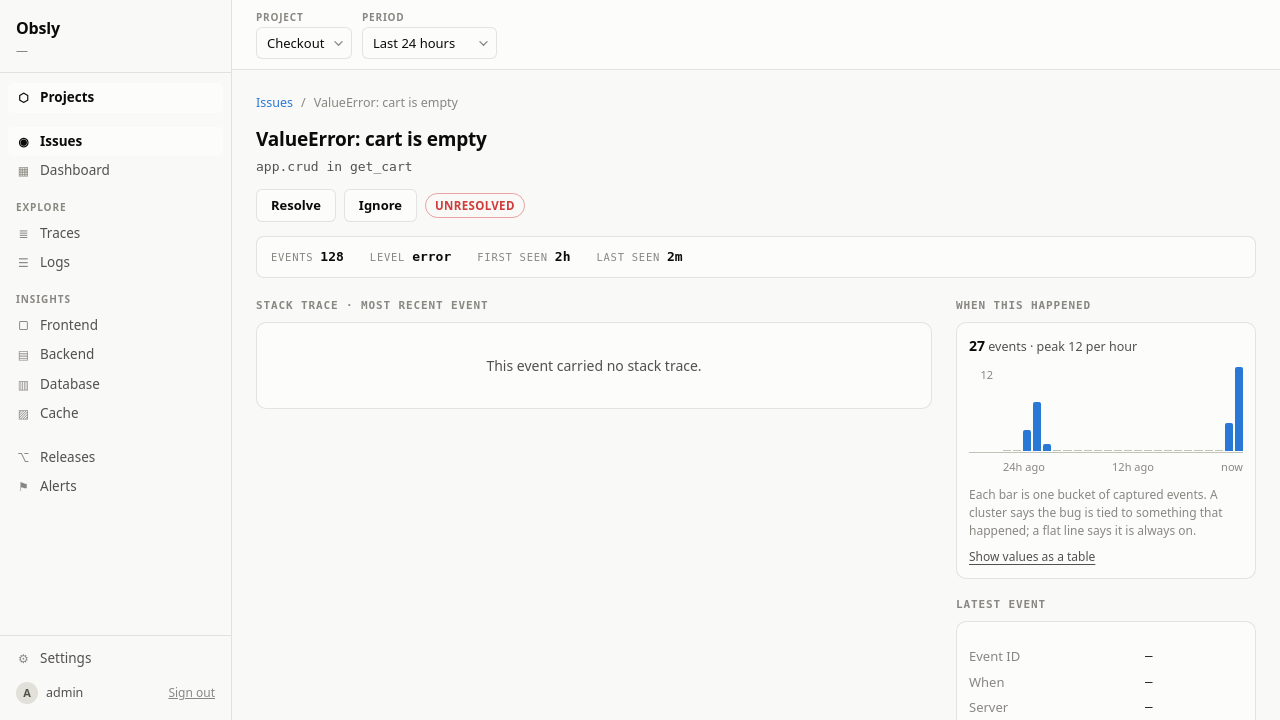
Test: Review findings › switching project from a detail page does not carry the record id across
The width and height of the screenshot is (1280, 720).
Select "Billing" in the dropdown labelled "Project". click: (304, 43)
box: [256,27,352,59]
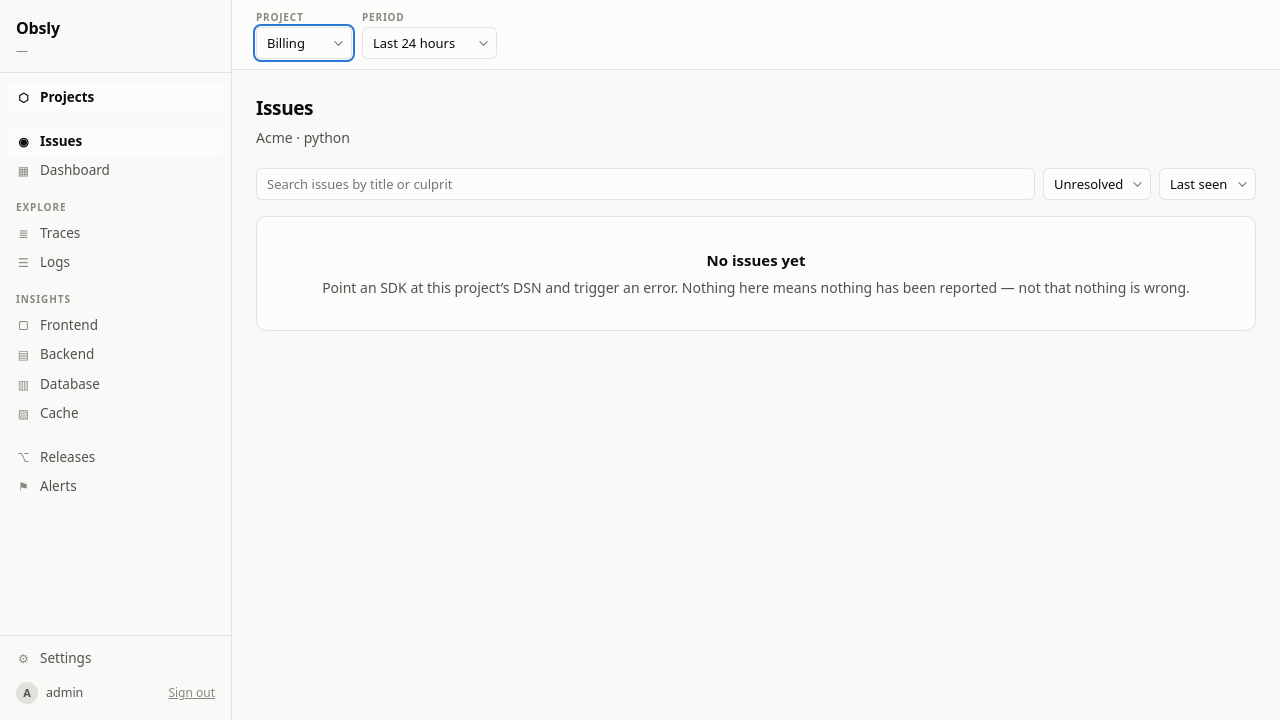
Now the heading "Issues" is shown, box [256,95,313,121]
